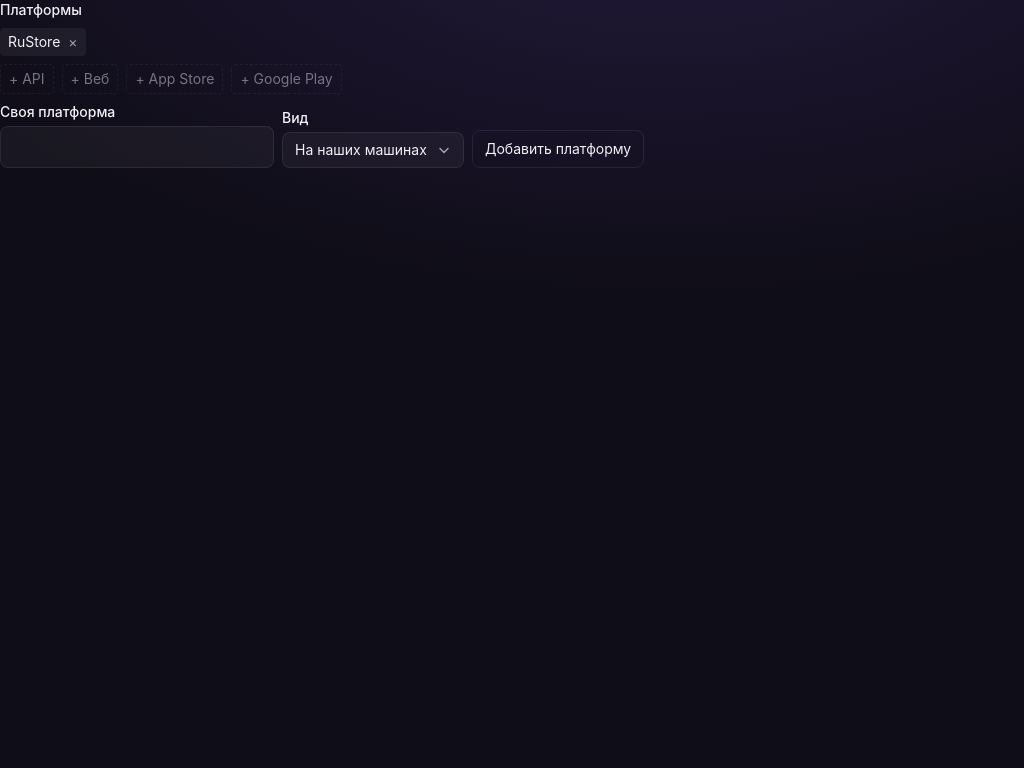
PlatformsField › заведённая платформа не убирается с первого щелчка
What coordinates should you click on to do the following:
click the button named "Убрать RuStore"
I would click on:
 (73, 42)
Its box is [68,32,78,52].
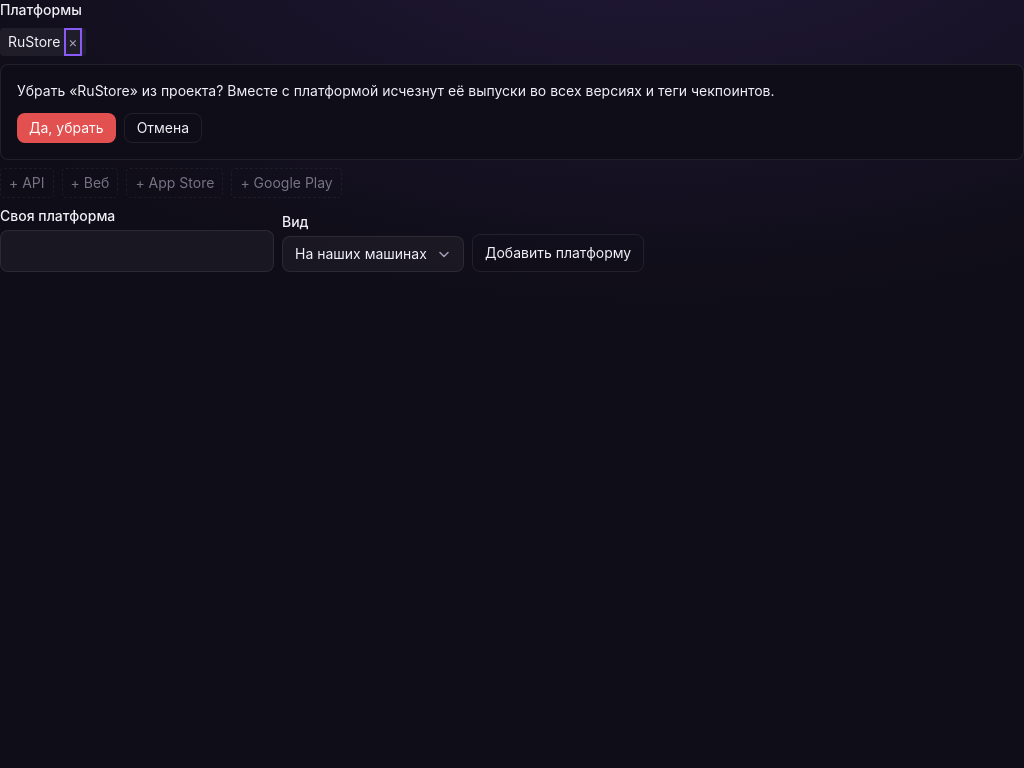
Expected: the dialog named "Подтверждение удаления платформы" shows "RuStore", [77,82,130,99]
Expected: the dialog named "Подтверждение удаления платформы" shows "выпуски", [227,82,775,99]
